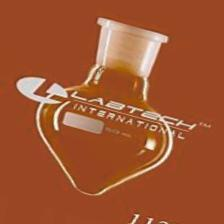Pear shaped flask: (18, 12, 179, 197)
